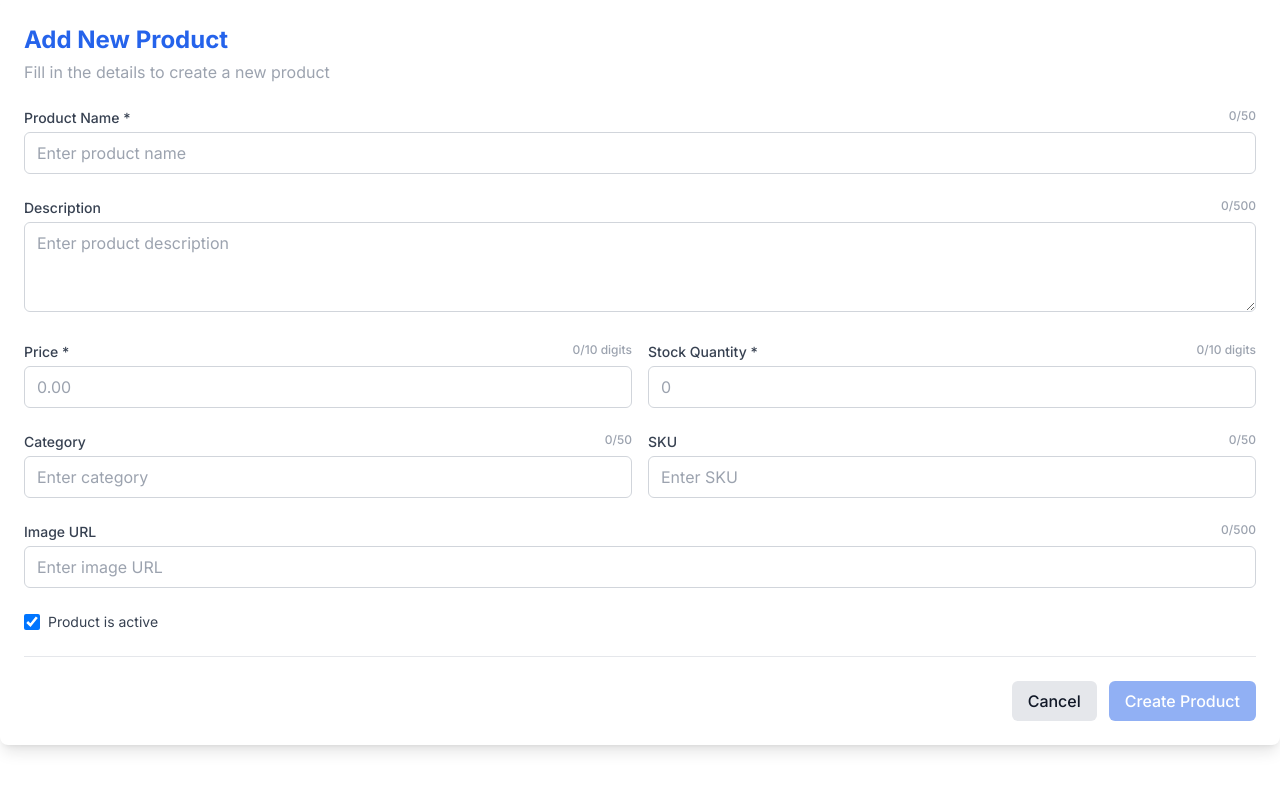
ProductForm Component › Form Validation - Required Fields › submit button is disabled when image URL is invalid
This screenshot has width=1280, height=800.
Type "Test Product" into the field labelled "Product Name * 0/50" at (640, 153), box top-left (24, 132), bottom-right (1256, 174)
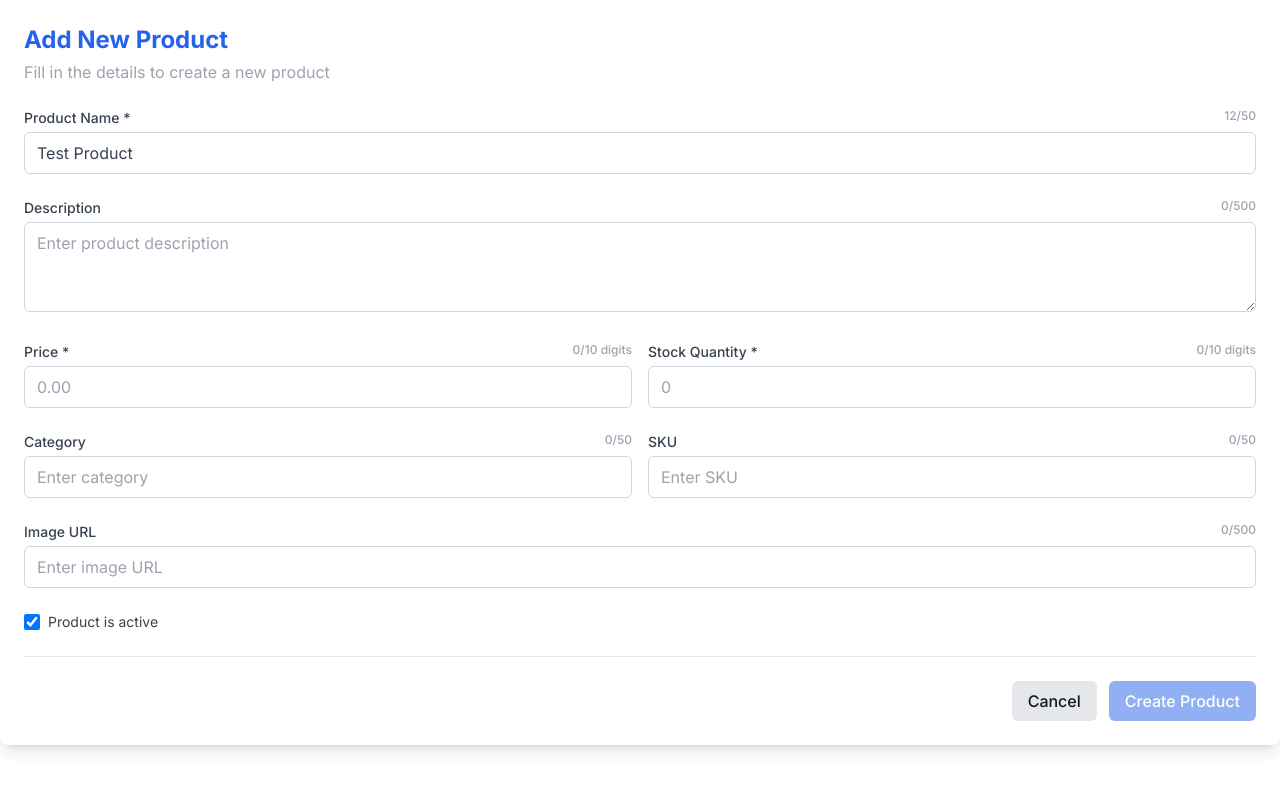
Type "10" into the number field labelled "Price * 0/10 digits" at (328, 387), box top-left (24, 366), bottom-right (632, 408)
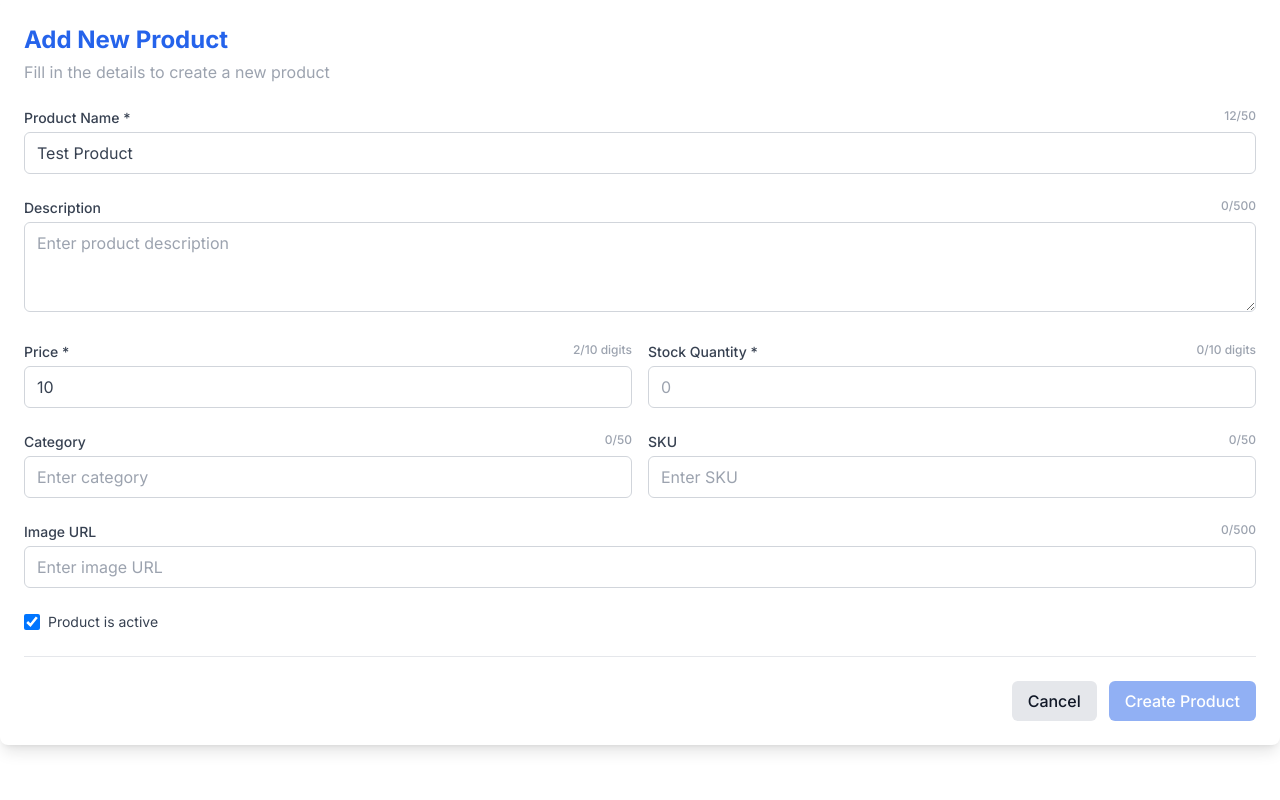
Type "5" into the number field labelled "Stock Quantity * 0/10 digits" at (952, 387), box top-left (648, 366), bottom-right (1256, 408)
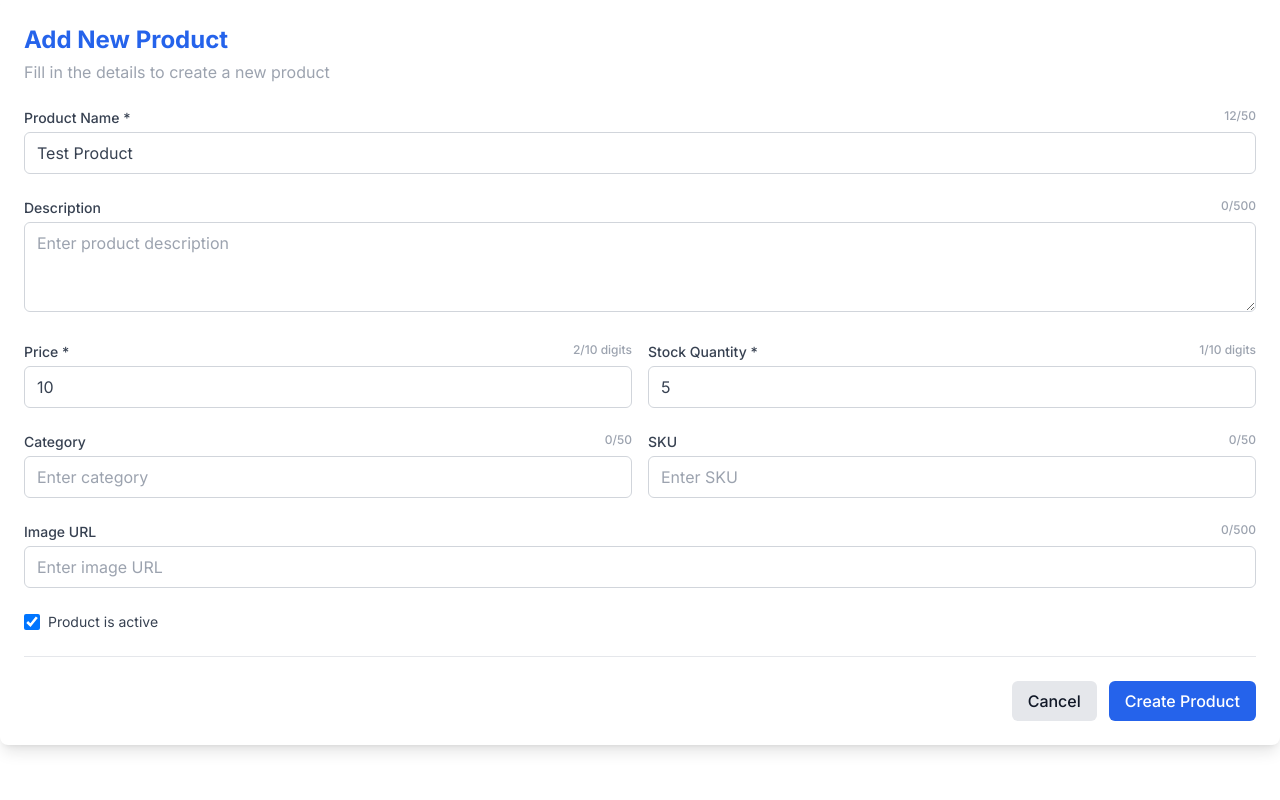
Type "invalid-url" into the field labelled "Image URL 0/500" at (640, 567), box top-left (24, 546), bottom-right (1256, 588)
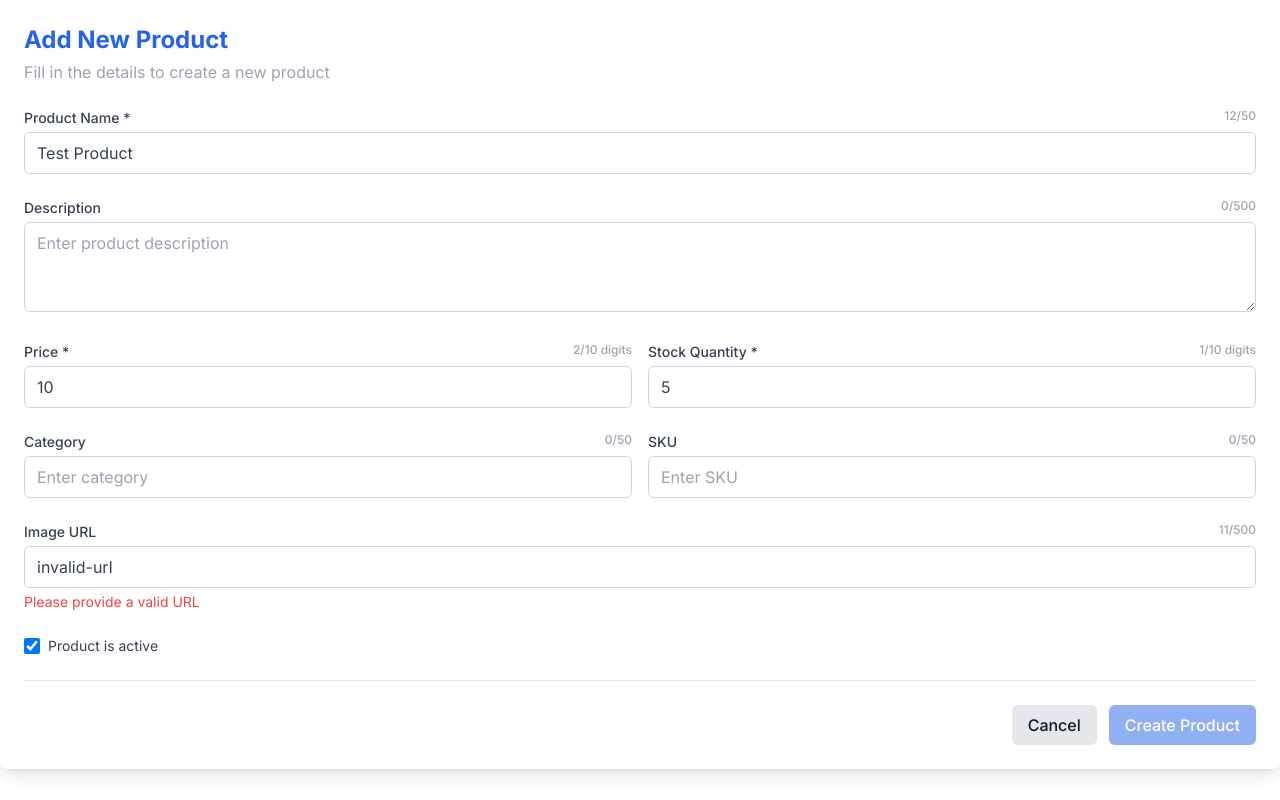
Now the button "Create Product" is disabled, box top-left (1109, 705), bottom-right (1256, 745)
